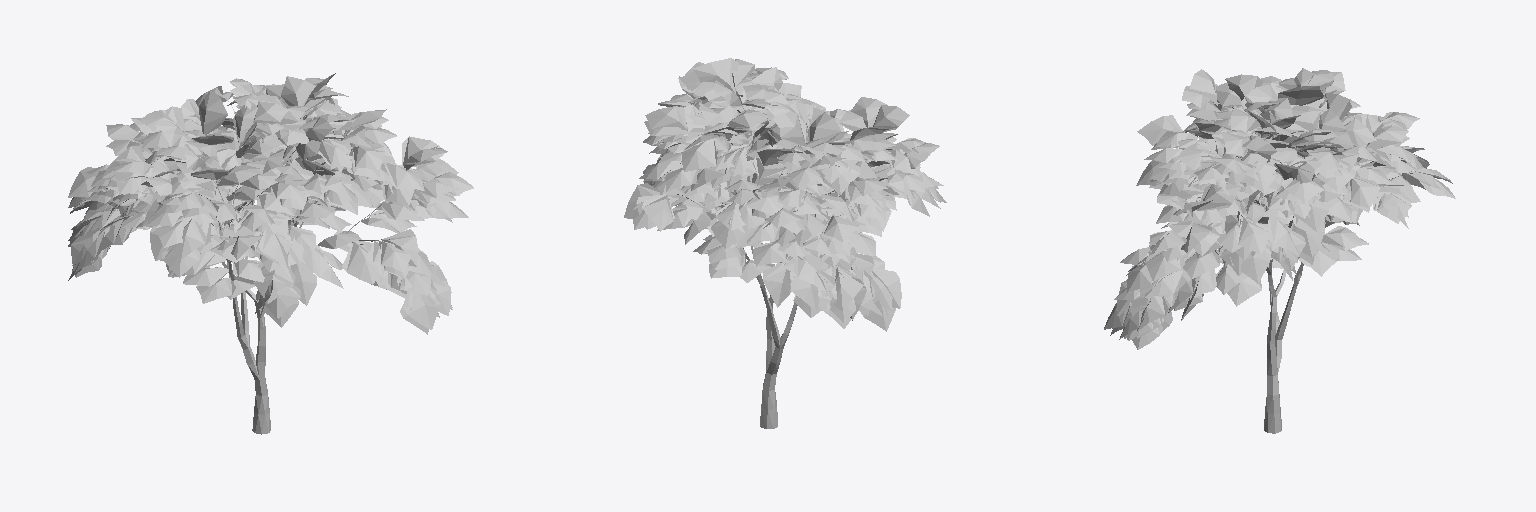
The model's file is tree_nyers.obj.
3 views of the same model, side by side, from view 1: azimuth 30°, elevation 25°; view 2: azimuth 150°, elevation 25°; view 3: azimuth 270°, elevation 25° (orthographic).
Bounding box in the file's own units: 10.15 × 10.68 × 9.9.